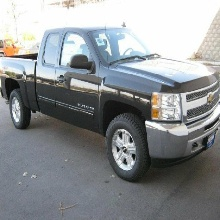no damage: (1, 26, 220, 182)
